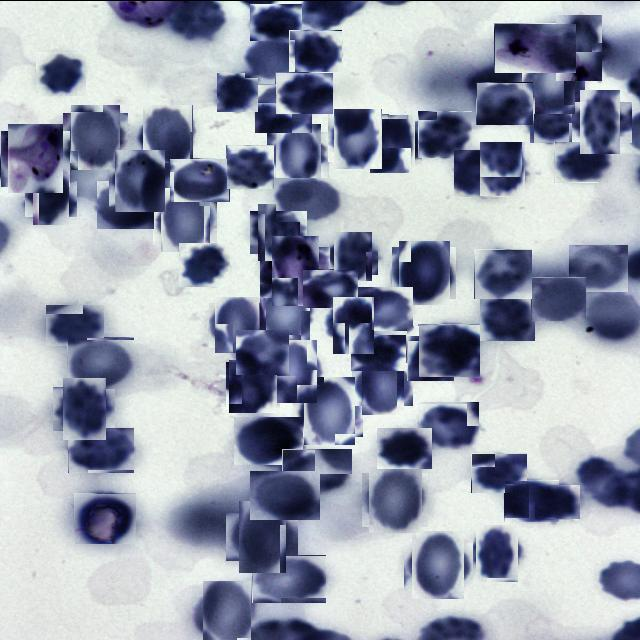red blood cell: (408, 534, 468, 594), (299, 380, 359, 440), (365, 469, 425, 529), (232, 506, 292, 566), (252, 554, 326, 602), (67, 336, 134, 388), (250, 470, 320, 519), (156, 190, 214, 248), (395, 243, 453, 301), (234, 416, 303, 464), (67, 108, 124, 166), (418, 323, 480, 376), (282, 448, 352, 494), (74, 492, 136, 543), (258, 285, 314, 341), (265, 342, 321, 398), (198, 584, 254, 640), (112, 152, 168, 208), (552, 19, 608, 74), (68, 426, 134, 472), (276, 177, 345, 221), (142, 106, 196, 160), (271, 127, 325, 181), (332, 110, 386, 164), (474, 248, 532, 298), (255, 82, 312, 132), (419, 402, 479, 449), (527, 55, 580, 108), (569, 244, 628, 291), (97, 180, 154, 228), (351, 286, 413, 330), (356, 358, 408, 410), (366, 116, 418, 168), (58, 382, 110, 434), (574, 96, 626, 148), (404, 327, 456, 379), (454, 150, 510, 198), (169, 157, 230, 201), (480, 293, 535, 340), (418, 110, 472, 157), (472, 527, 522, 577), (212, 300, 262, 350), (254, 206, 304, 256), (328, 300, 378, 350), (477, 143, 527, 193), (228, 360, 278, 410), (45, 303, 104, 345), (476, 81, 533, 124), (554, 140, 612, 182), (276, 71, 334, 113), (531, 276, 586, 320), (236, 329, 289, 374), (504, 479, 559, 521), (377, 427, 432, 468), (179, 242, 230, 286), (471, 452, 527, 492), (289, 29, 342, 71), (36, 51, 86, 95), (302, 268, 358, 307), (226, 144, 274, 188), (352, 334, 408, 370), (331, 233, 375, 277), (29, 176, 73, 220), (250, 3, 302, 40), (245, 39, 295, 77), (216, 71, 258, 111), (529, 103, 572, 142), (536, 484, 582, 518)
trophozoite: (494, 22, 576, 72), (4, 126, 66, 190), (266, 240, 324, 300)
